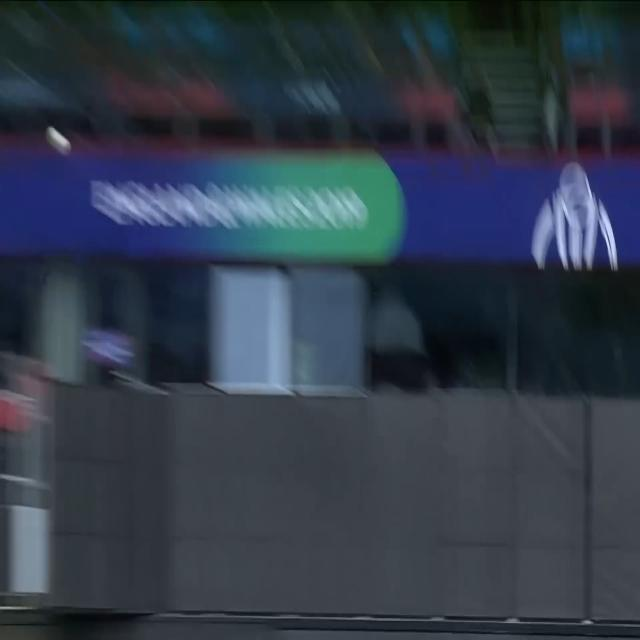ball: (50, 125, 74, 160)
